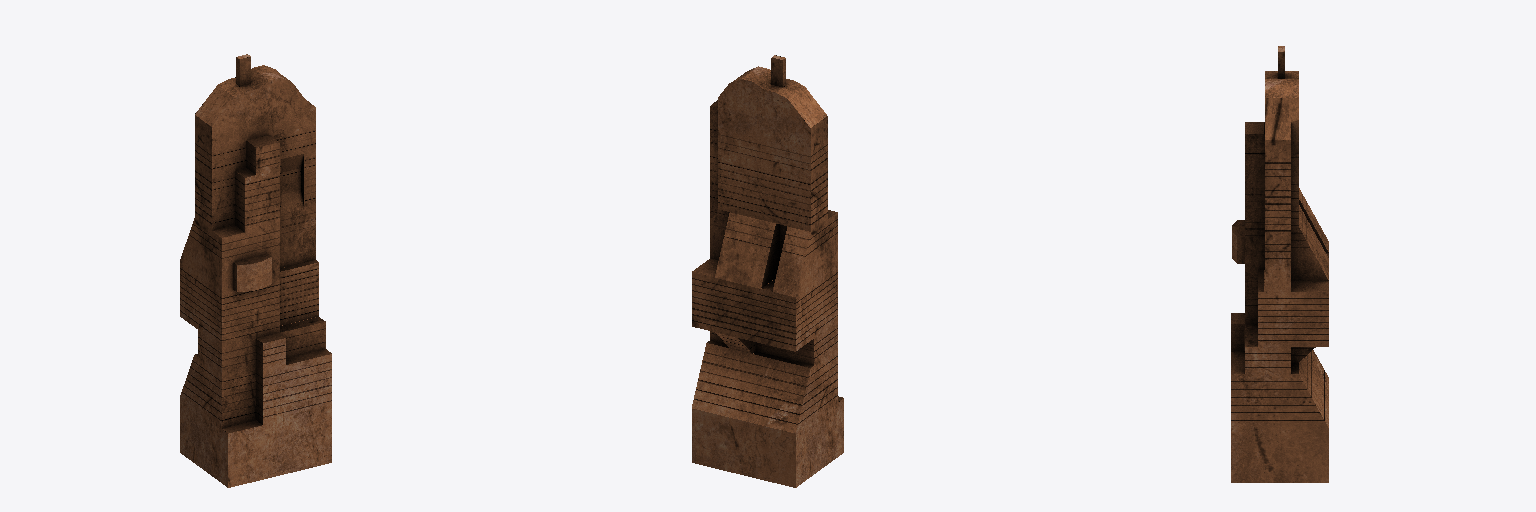
3 renders of one model, left to right at view 1: azimuth 30°, elevation 25°; view 2: azimuth 150°, elevation 25°; view 3: azimuth 270°, elevation 25°, orthographic.
Parts seen in each view (by area): view 1: sci-building1_Cube; view 2: sci-building1_Cube; view 3: sci-building1_Cube.
Part boxes in pixels (bbox=[...]): sci-building1_Cube: bbox=[180, 54, 331, 487]; sci-building1_Cube: bbox=[692, 55, 843, 487]; sci-building1_Cube: bbox=[1231, 46, 1328, 482].
Size of the model in its own units: 2.8 by 10.36 by 2.27.
1 materials, 1 textured.